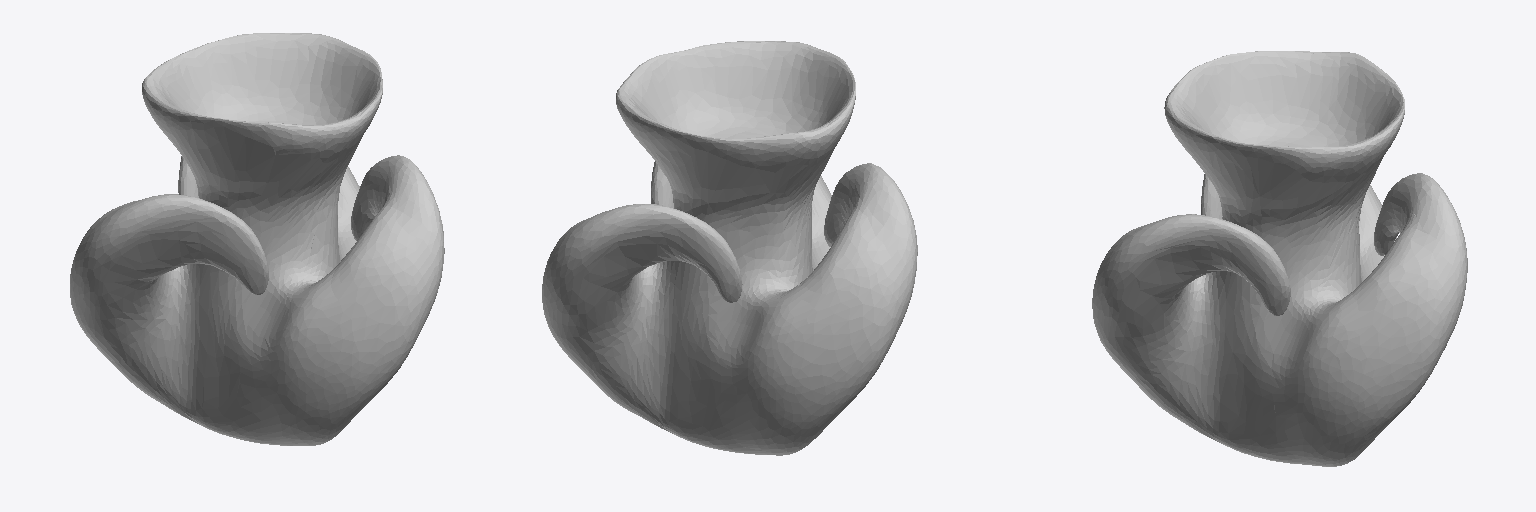
The model's file is move-flower.obj.
3 views of the same model, side by side, from view 1: azimuth 30°, elevation 25°; view 2: azimuth 150°, elevation 25°; view 3: azimuth 270°, elevation 25° (orthographic).
Parts seen in each view (by area): view 1: Quad_Sphere; view 2: Quad_Sphere; view 3: Quad_Sphere.
Boxes of the visible parts, box(x1,y1,x2,y2) form: Quad_Sphere: box(70, 33, 444, 445); Quad_Sphere: box(542, 41, 917, 455); Quad_Sphere: box(1092, 51, 1467, 466).
Bounding box in the file's own units: 8.6 × 8.95 × 8.83.